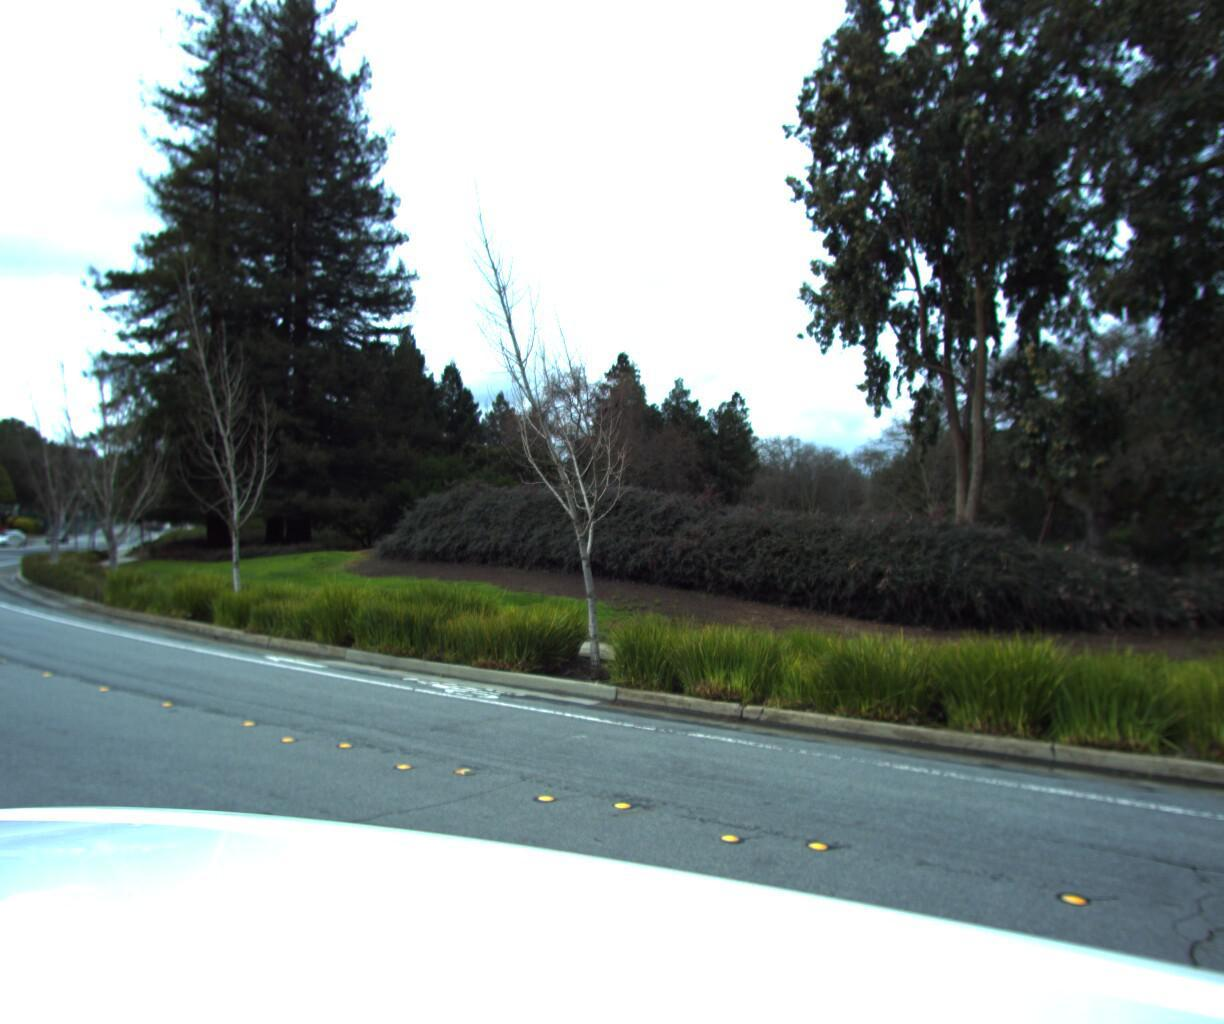car: (0, 527, 28, 548)
